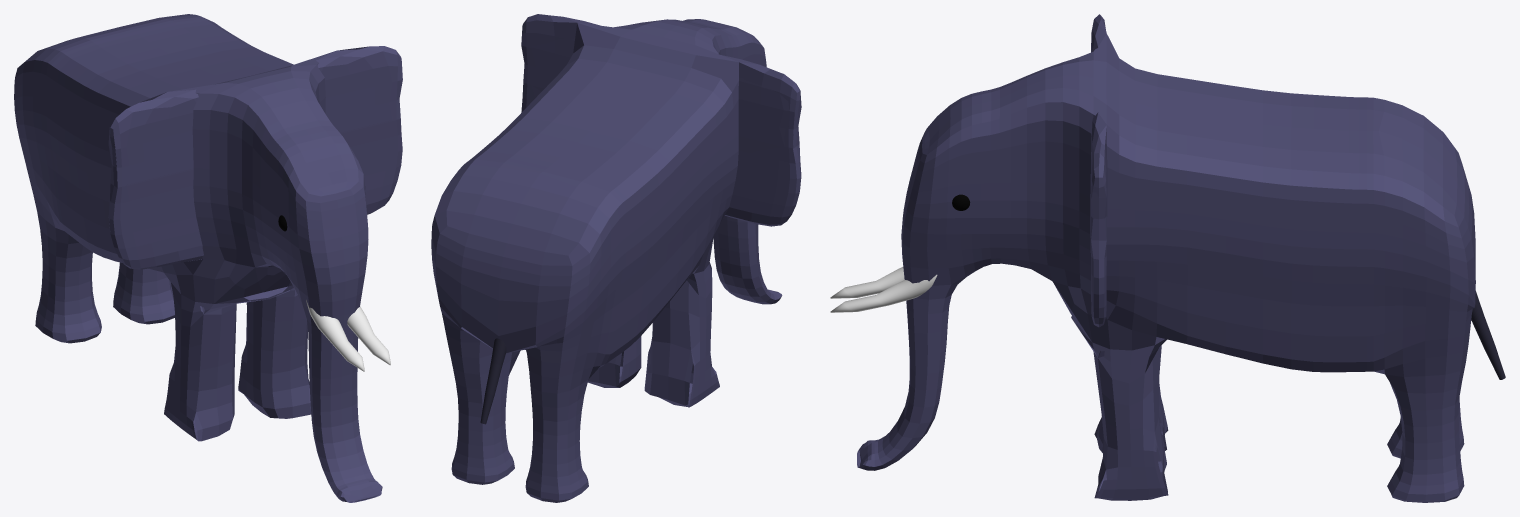
Rendered from Elephant.fbx.
The picture shows the model from 3 angles, left to right: view 1: azimuth 30°, elevation 25°; view 2: azimuth 150°, elevation 25°; view 3: azimuth 270°, elevation 25°; orthographic projection. The views are drawn at different scales.
Visible parts, largest first — view 1: body, teeth.001, teeth; view 2: body, tail; view 3: body, teeth, tail, teeth.001.
Boxes of the visible parts, box(x1,y1,x2,y2) form: body: box(14, 14, 402, 502); teeth.001: box(306, 300, 364, 371); teeth: box(347, 306, 390, 365); body: box(431, 14, 801, 502); tail: box(480, 338, 506, 424); body: box(857, 14, 1475, 502); teeth: box(830, 274, 937, 312); tail: box(1471, 291, 1505, 379); teeth.001: box(830, 267, 904, 298).
Bounding box in the file's own units: 288 × 340 × 522.
